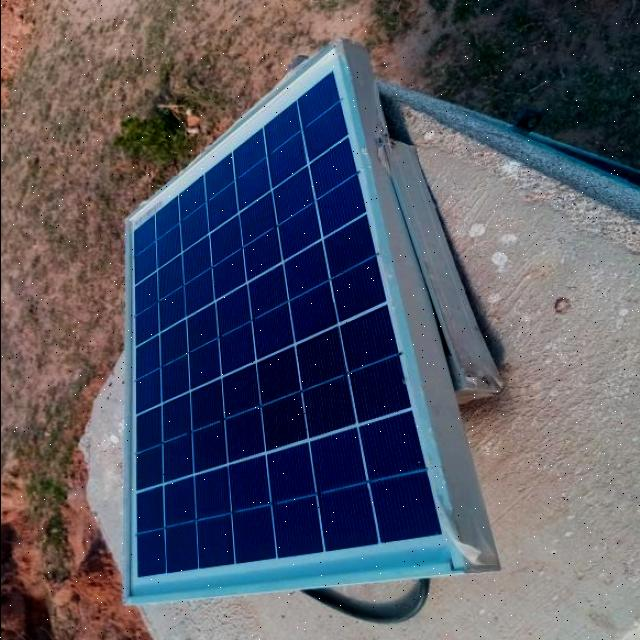Normal Solar Panel: (125, 43, 462, 599)
